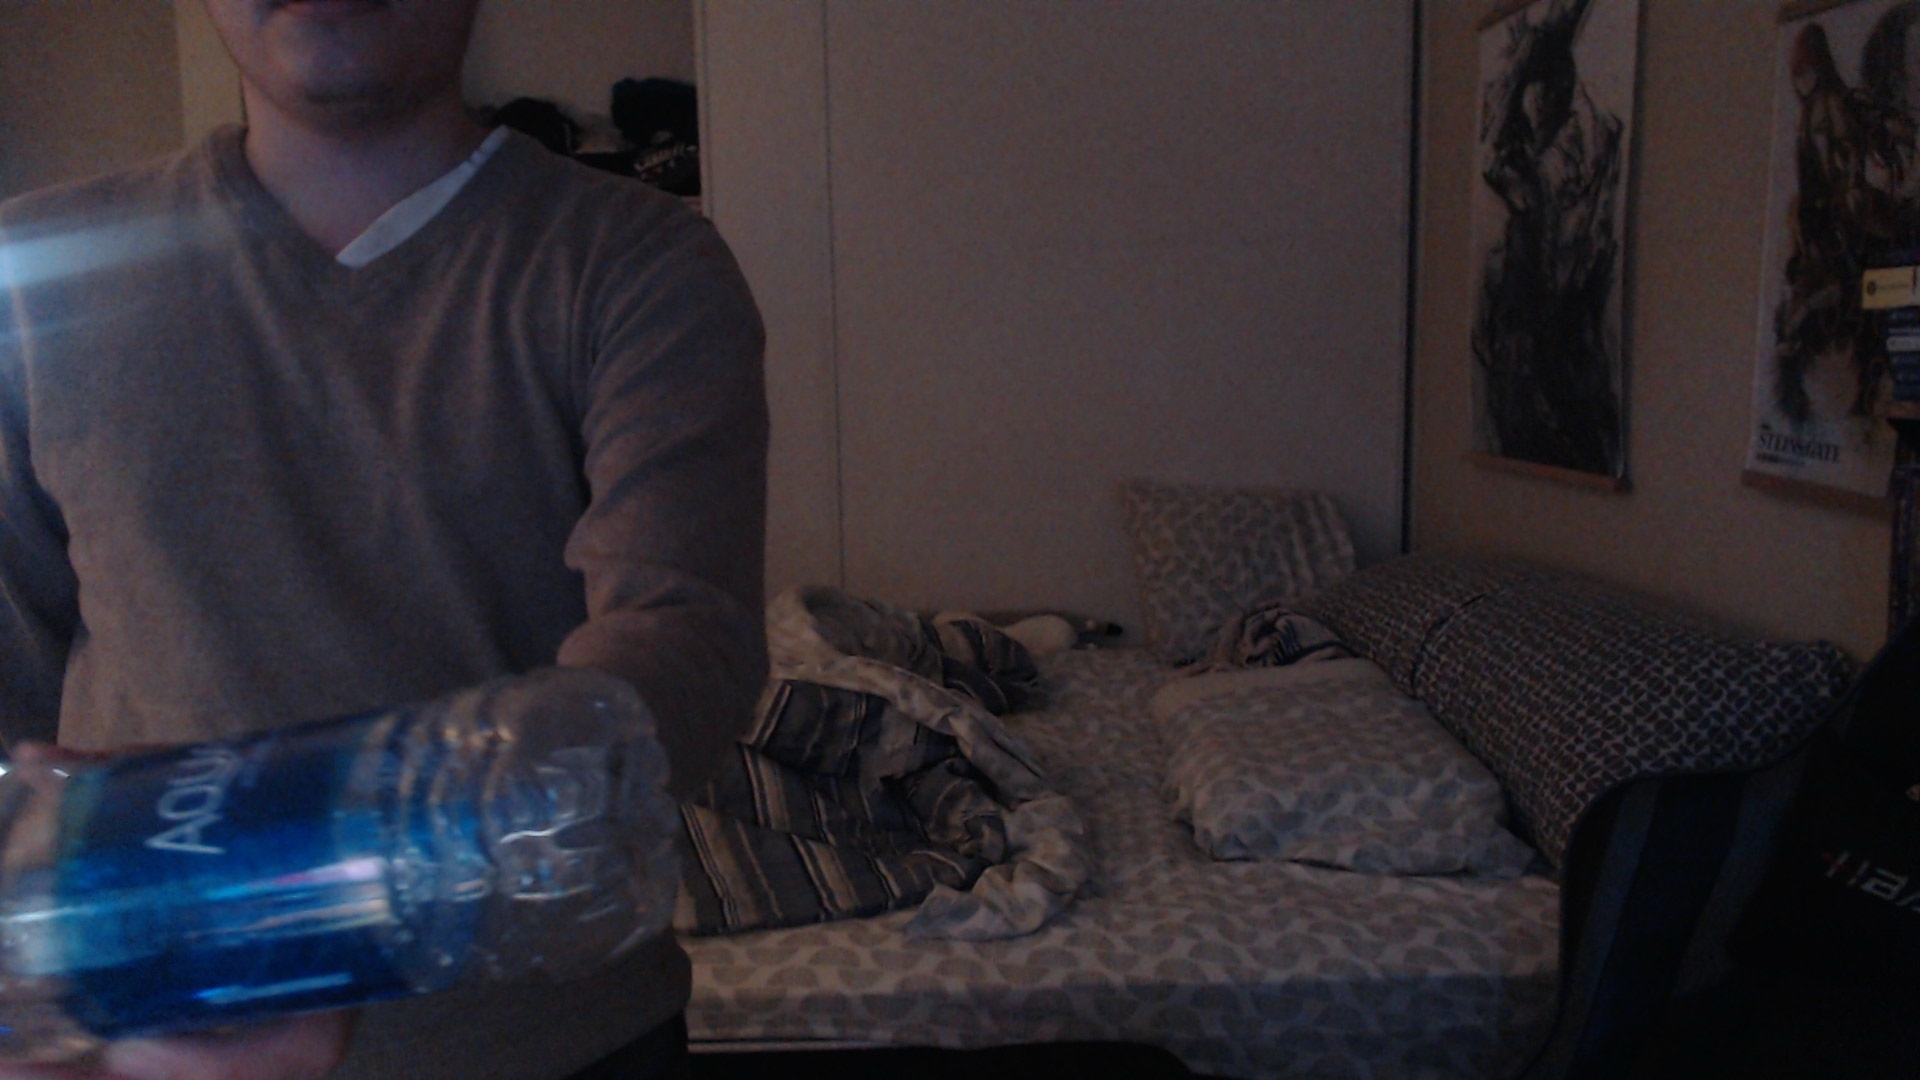bottle: (1, 666, 680, 1080)
